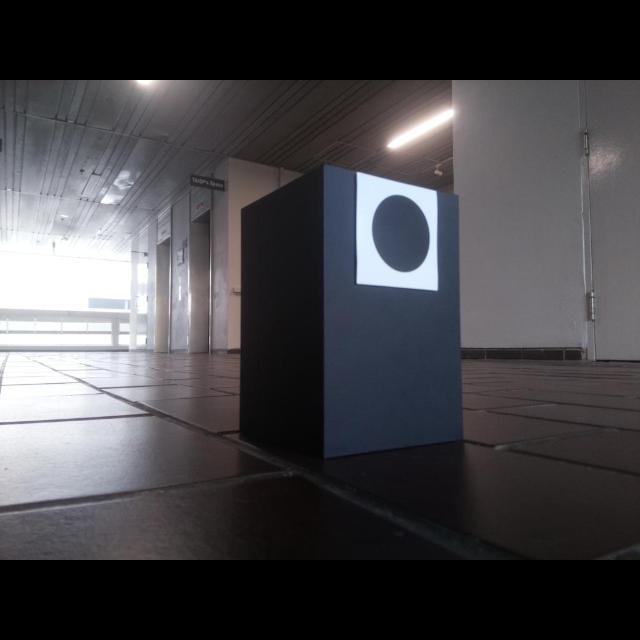CIRCLE: (369, 192, 432, 278)
